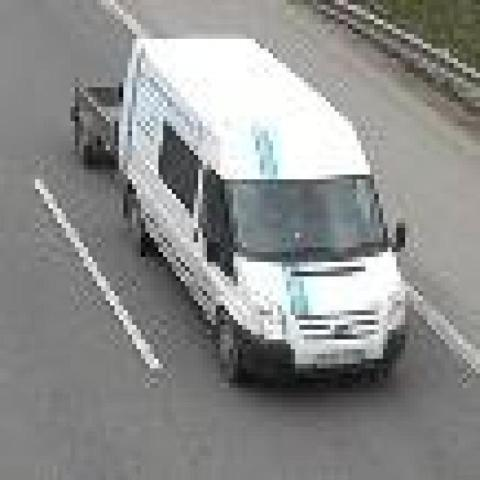van: (122, 41, 404, 386)
